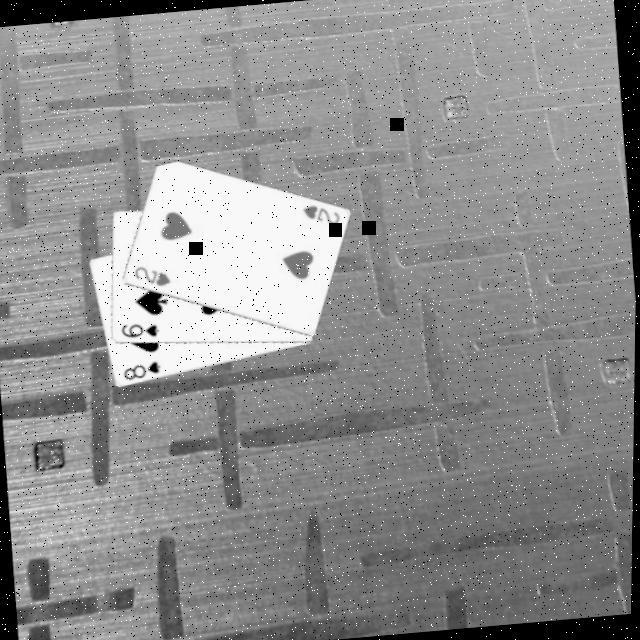2H: (297, 201, 341, 233), (129, 262, 172, 294)
6S: (116, 320, 160, 344)
8S: (119, 360, 163, 386)
